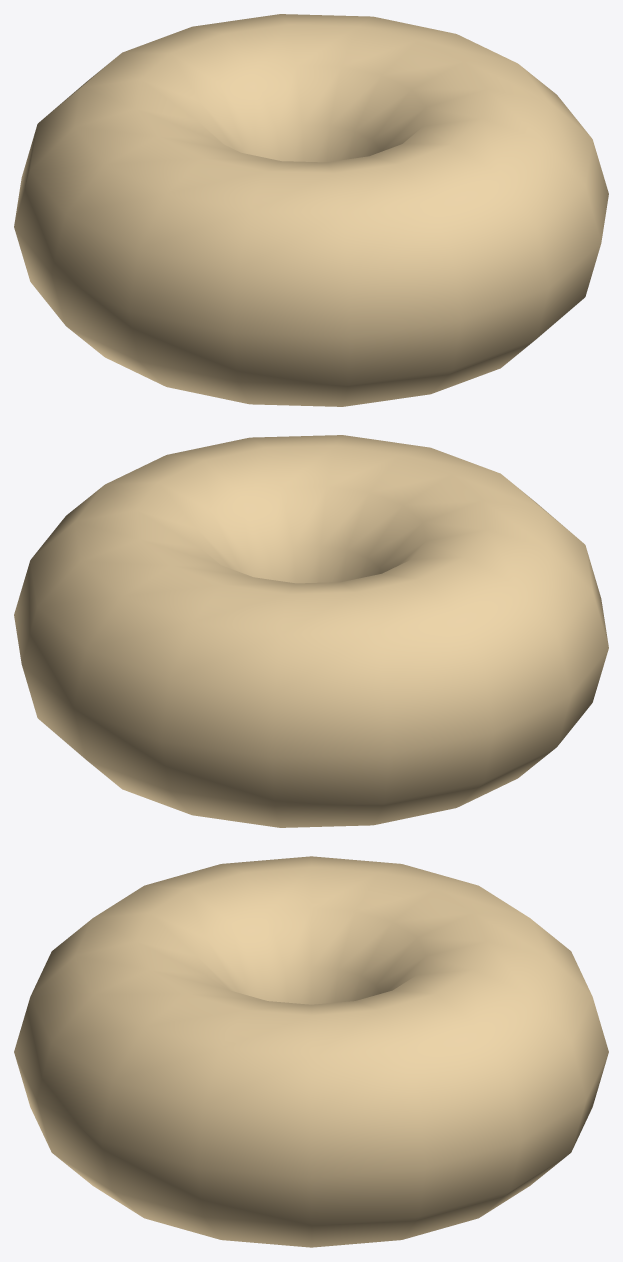
The model's file is BagelSmooth.fbx.
The picture shows the model from 3 angles, top to bottom: view 1: azimuth 30°, elevation 25°; view 2: azimuth 150°, elevation 25°; view 3: azimuth 270°, elevation 25°; orthographic projection.
Parts seen in each view (by area): view 1: Bagel; view 2: Bagel; view 3: Bagel.
Boxes of the visible parts, bbox=[...] form: Bagel: bbox=[14, 14, 608, 406]; Bagel: bbox=[14, 435, 608, 827]; Bagel: bbox=[14, 856, 608, 1247].
Size of the model in its own units: 122 by 50 by 122.
